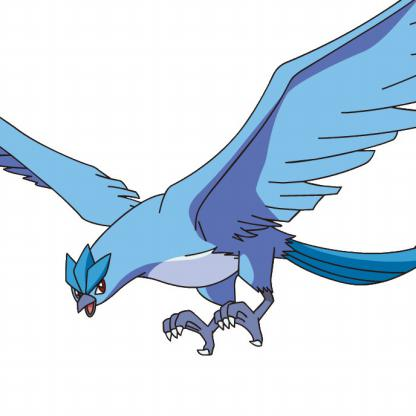Articuno: (1, 1, 416, 371)
